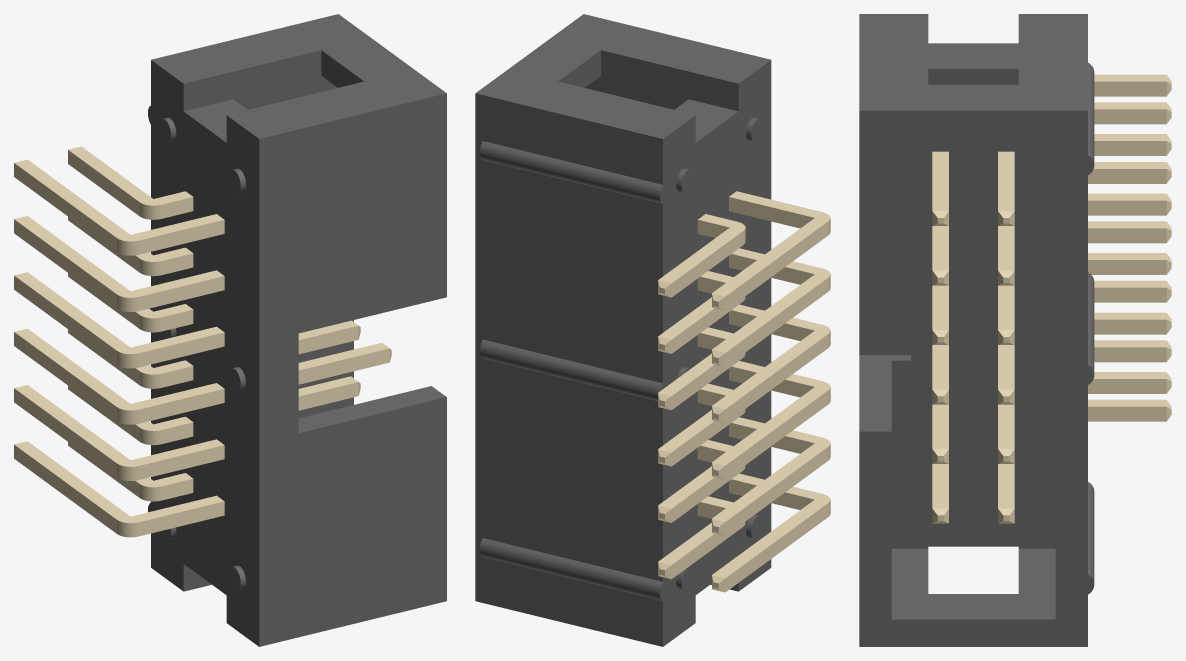
File: IDC-Header_2x06_P2.54mm_Horizontal.glb
The picture shows the model from 3 angles, left to right: view 1: azimuth 30°, elevation 25°; view 2: azimuth 150°, elevation 25°; view 3: azimuth 270°, elevation 25°; orthographic projection. The views are drawn at different scales.
Visible parts, largest first — view 1: Shape_IndexedFaceSet, Shape_IndexedFaceSet.007, Shape_IndexedFaceSet.001, Shape_IndexedFaceSet.011, Shape_IndexedFaceSet.076, Shape_IndexedFaceSet.014, Shape_IndexedFaceSet.077, Shape_IndexedFaceSet.110, Shape_IndexedFaceSet.093, Shape_IndexedFaceSet.042, Shape_IndexedFaceSet.127, Shape_IndexedFaceSet.059 (+20 smaller); view 2: Shape_IndexedFaceSet.008, Shape_IndexedFaceSet.007, Shape_IndexedFaceSet.001, Shape_IndexedFaceSet.009, Shape_IndexedFaceSet.025, Shape_IndexedFaceSet.023, Shape_IndexedFaceSet.024, Shape_IndexedFaceSet.110, Shape_IndexedFaceSet.076, Shape_IndexedFaceSet.093, Shape_IndexedFaceSet.042, Shape_IndexedFaceSet.127 (+28 smaller); view 3: Shape_IndexedFaceSet.017, Shape_IndexedFaceSet.002, Shape_IndexedFaceSet.001, Shape_IndexedFaceSet.013, Shape_IndexedFaceSet.004, Shape_IndexedFaceSet.005, Shape_IndexedFaceSet.026, Shape_IndexedFaceSet.110, Shape_IndexedFaceSet.212, Shape_IndexedFaceSet.093, Shape_IndexedFaceSet.144, Shape_IndexedFaceSet.195 (+22 smaller).
Part boxes in pixels (left/top/right/bottom): Shape_IndexedFaceSet: left=259, top=93, right=446, bottom=646; Shape_IndexedFaceSet.007: left=148, top=60, right=259, bottom=646; Shape_IndexedFaceSet.001: left=151, top=14, right=446, bottom=138; Shape_IndexedFaceSet.011: left=183, top=50, right=321, bottom=111; Shape_IndexedFaceSet.076: left=14, top=328, right=389, bottom=410; Shape_IndexedFaceSet.014: left=233, top=76, right=353, bottom=418; Shape_IndexedFaceSet.077: left=138, top=348, right=389, bottom=423; Shape_IndexedFaceSet.110: left=14, top=159, right=223, bottom=241; Shape_IndexedFaceSet.093: left=14, top=272, right=223, bottom=354; Shape_IndexedFaceSet.042: left=14, top=441, right=223, bottom=523; Shape_IndexedFaceSet.127: left=14, top=216, right=223, bottom=297; Shape_IndexedFaceSet.059: left=14, top=385, right=223, bottom=466; Shape_IndexedFaceSet.008: left=475, top=93, right=662, bottom=646; Shape_IndexedFaceSet.007: left=660, top=60, right=771, bottom=646; Shape_IndexedFaceSet.001: left=476, top=14, right=770, bottom=138; Shape_IndexedFaceSet.009: left=601, top=50, right=738, bottom=111; Shape_IndexedFaceSet.025: left=480, top=141, right=662, bottom=203; Shape_IndexedFaceSet.023: left=480, top=538, right=662, bottom=600; Shape_IndexedFaceSet.024: left=480, top=339, right=662, bottom=401; Shape_IndexedFaceSet.110: left=712, top=191, right=830, bottom=296; Shape_IndexedFaceSet.076: left=712, top=361, right=830, bottom=465; Shape_IndexedFaceSet.093: left=712, top=304, right=830, bottom=409; Shape_IndexedFaceSet.042: left=712, top=473, right=830, bottom=578; Shape_IndexedFaceSet.127: left=712, top=248, right=830, bottom=352; Shape_IndexedFaceSet.017: left=891, top=69, right=1055, bottom=548; Shape_IndexedFaceSet.002: left=859, top=110, right=1087, bottom=646; Shape_IndexedFaceSet.001: left=859, top=14, right=1087, bottom=110; Shape_IndexedFaceSet.013: left=891, top=548, right=1055, bottom=619; Shape_IndexedFaceSet.004: left=859, top=255, right=910, bottom=354; Shape_IndexedFaceSet.005: left=859, top=355, right=910, bottom=431; Shape_IndexedFaceSet.026: left=928, top=43, right=1018, bottom=68; Shape_IndexedFaceSet.110: left=932, top=74, right=1166, bottom=210; Shape_IndexedFaceSet.212: left=998, top=102, right=1166, bottom=210; Shape_IndexedFaceSet.093: left=932, top=193, right=1166, bottom=329; Shape_IndexedFaceSet.144: left=998, top=399, right=1166, bottom=508; Shape_IndexedFaceSet.195: left=998, top=221, right=1166, bottom=329.
Size of the model in its own units: 5.34 by 9.02 by 4.76.
